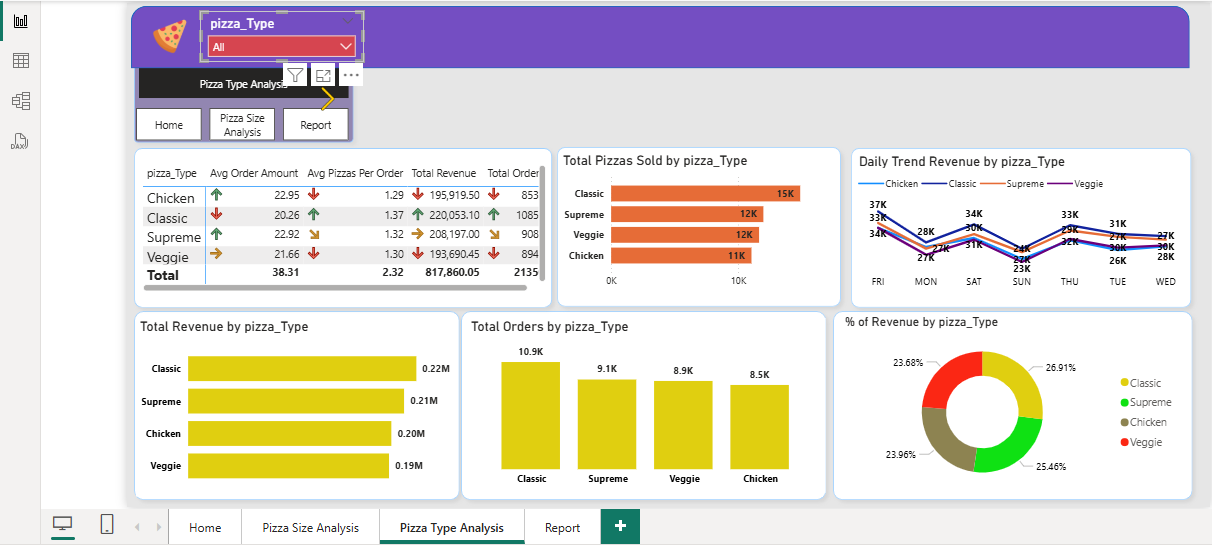

This screenshot's page, from the dashboard's own definition file:
{"tool":"powerbi","page":{"name":"Pizza Type Analysis","canvas":[1370,638],"ordinal":2},"visuals":[{"type":"shape","box":[0,381.4,430,257.1],"z":0},{"type":"shape","box":[884.3,381.4,472.9,257.1],"z":1000},{"type":"donutChart","title":"% of Revenue by pizza_Type","fields":{"Y":["bizza data set end to end project -.Total Revenue"],"Category":["bizza data set end to end project -.pizza_category"]},"box":[904.3,394.3,432.9,230],"z":2000},{"type":"barChart","title":"Total Revenue by pizza_Type","fields":{"Category":["bizza data set end to end project -.pizza_category"],"Y":["bizza data set end to end project -.Total Revenue"]},"box":[11.4,398.6,402.9,225.7],"z":3000},{"type":"shape","box":[414.3,380.8,480,257.1],"z":4000},{"type":"columnChart","title":"Total Orders by pizza_Type","fields":{"Category":["bizza data set end to end project -.pizza_category"],"Y":["bizza data set end to end project -.Total Orders"]},"box":[430,398.6,454.3,221.4],"z":5000},{"type":"shape","box":[0,174.3,547.1,220],"z":6000},{"type":"pivotTable","fields":{"Rows":["bizza data set end to end project -.pizza_category"],"Values":["bizza data set end to end project -.Average Order Value","bizza data set end to end project -.Average Pizzas Per Order","bizza data set end to end project -.Total Revenue","bizza data set end to end project -.Total Orders"]},"box":[15.7,200,520,170],"z":7000},{"type":"shape","box":[0,68.6,295.7,117.1],"z":9000},{"type":"pageNavigator","box":[15.7,82.9,265.7,38.6],"z":10000},{"type":"pageNavigator","box":[11.4,132.9,270,41.4],"z":11000},{"type":"shape","box":[5,3.8,1340,78.8],"z":12000},{"type":"image","box":[234.3,95.7,40,50],"z":13000},{"type":"slicer","fields":{"Values":["bizza data set end to end project -.pizza_category"]},"box":[92.9,10,207.1,64.3],"z":14000},{"type":"shape","box":[535.7,172.9,377.1,220],"z":15000},{"type":"shape","box":[907.1,174.3,448.6,220],"z":16000},{"type":"lineChart","title":"Daily Trend Revenue by pizza_Type","fields":{"Category":["bizza data set end to end project -.order day"],"Y":["bizza data set end to end project -.Total Revenue"],"Series":["bizza data set end to end project -.pizza_category"]},"box":[921.4,190,422.9,181.4],"z":17000},{"type":"clusteredBarChart","title":"Total Pizzas Sold by pizza_Type","fields":{"Y":["bizza data set end to end project -.Total Pizzas Sold"],"Category":["bizza data set end to end project -.pizza_category"]},"box":[547.1,188.6,347.1,181.4],"z":18000},{"type":"image","box":[15.7,15.7,77.1,54.3],"z":19000}]}

Visuals, with their boxes on the page's 1370x638 design canvas (x1, y1, x2, y2). These are canvas units, not pixel positions in the 1212x545 screenshot, which may show the page scaled, cropped or inside an application window:
shape: detection(0, 381, 430, 638)
shape: detection(884, 381, 1357, 638)
"% of Revenue by pizza_Type" donutChart: detection(904, 394, 1337, 624)
"Total Revenue by pizza_Type" barChart: detection(11, 399, 414, 624)
shape: detection(414, 381, 894, 638)
"Total Orders by pizza_Type" columnChart: detection(430, 399, 884, 620)
shape: detection(0, 174, 547, 394)
pivotTable - bizza data set end to end project -.pizza_category x bizza data set end to end project -.Average Order Value: detection(16, 200, 536, 370)
shape: detection(0, 69, 296, 186)
pageNavigator: detection(16, 83, 281, 122)
pageNavigator: detection(11, 133, 281, 174)
shape: detection(5, 4, 1345, 83)
image: detection(234, 96, 274, 146)
slicer - bizza data set end to end project -.pizza_category: detection(93, 10, 300, 74)
shape: detection(536, 173, 913, 393)
shape: detection(907, 174, 1356, 394)
"Daily Trend Revenue by pizza_Type" lineChart: detection(921, 190, 1344, 371)
"Total Pizzas Sold by pizza_Type" clusteredBarChart: detection(547, 189, 894, 370)
image: detection(16, 16, 93, 70)
